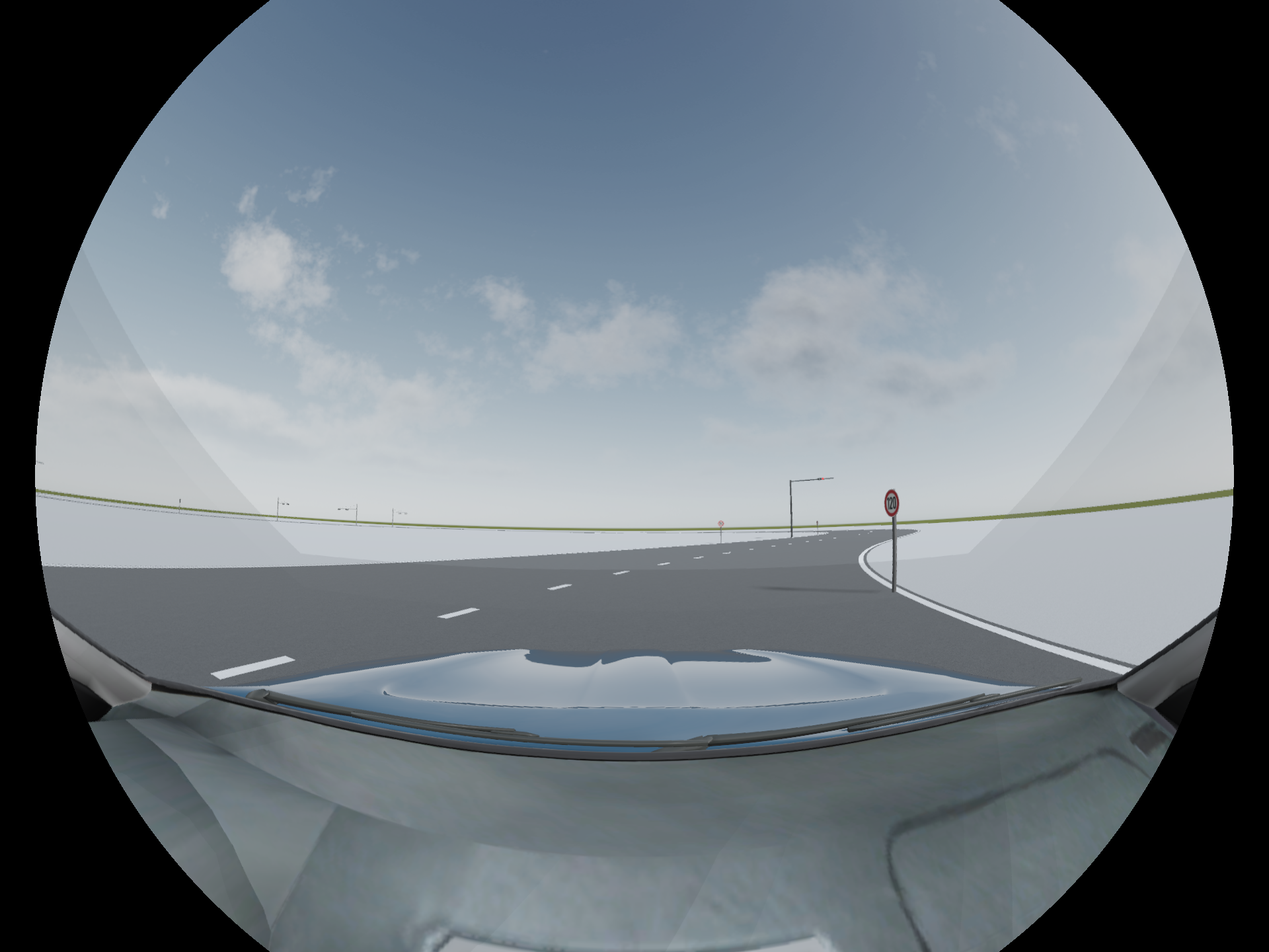Speed Limit 120: (884, 491, 901, 516)
